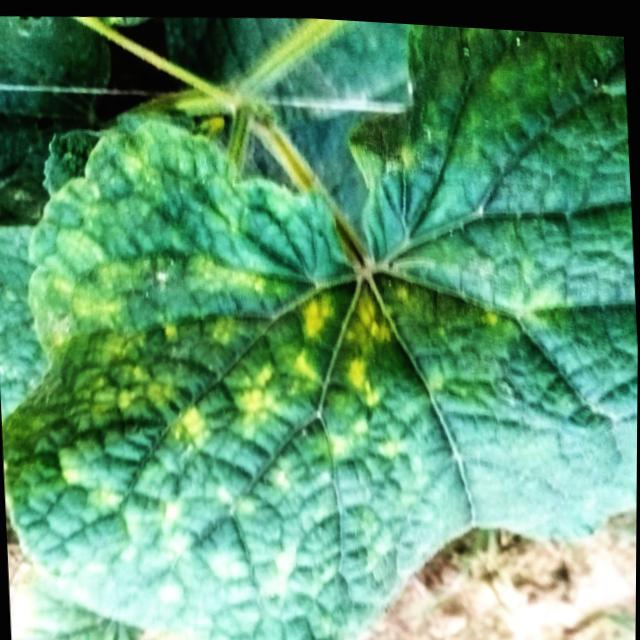Downy-Mildew: (5, 19, 638, 640)
